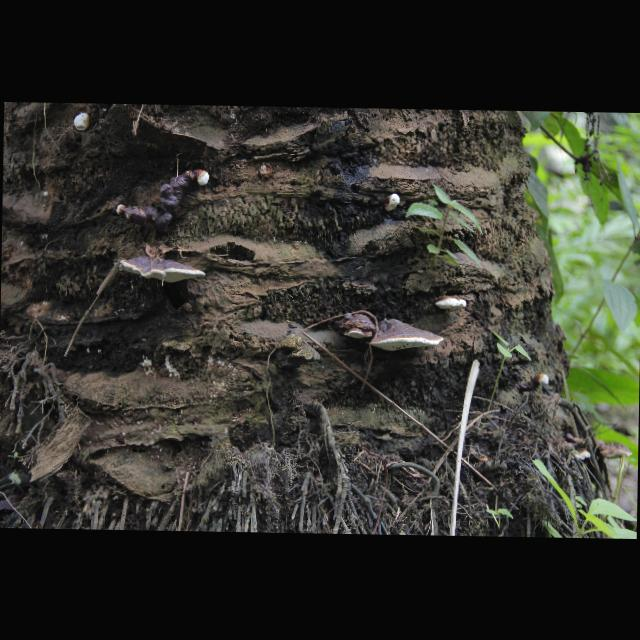ganoderma: (126, 171, 195, 236), (368, 319, 445, 354), (119, 255, 207, 285), (334, 313, 378, 341), (598, 441, 634, 461), (434, 296, 467, 312), (574, 447, 591, 461)
primordium: (383, 194, 401, 213), (74, 114, 91, 133), (195, 170, 211, 187), (532, 375, 550, 388), (117, 205, 126, 217), (43, 191, 49, 197)
